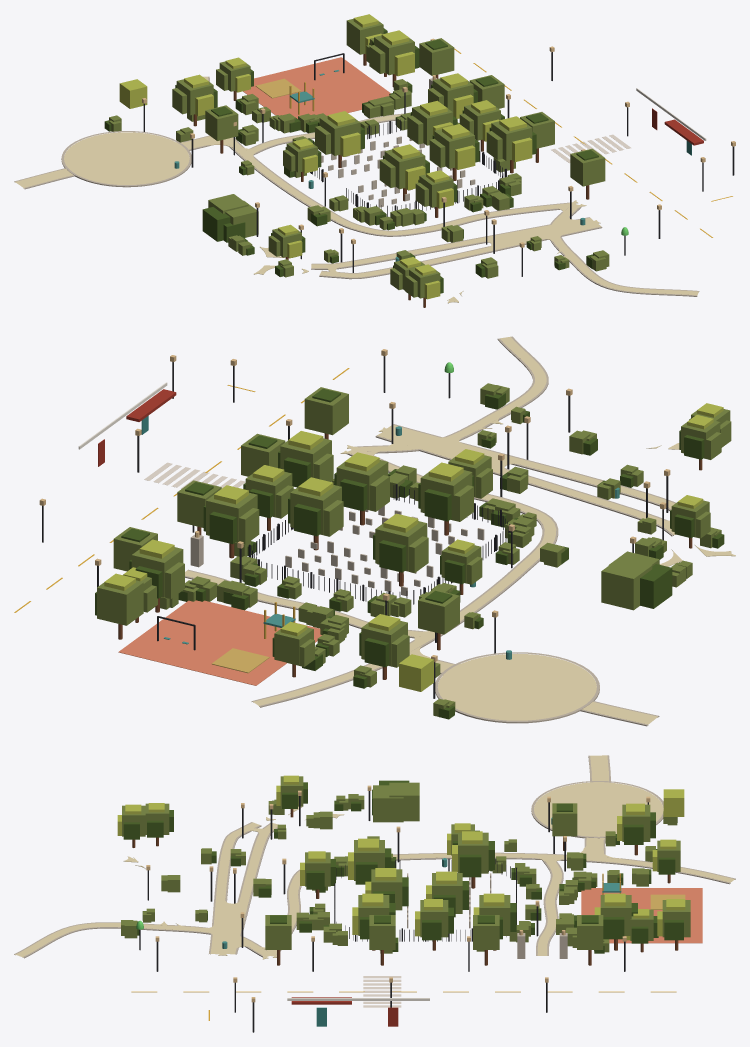
Rendered from chunk_0_-1.glb.
3 views of the same model, one above another, from view 1: azimuth 30°, elevation 25°; view 2: azimuth 150°, elevation 25°; view 3: azimuth 270°, elevation 25° (orthographic). The views are drawn at different scales.
Parts seen in each view (by area): view 1: chunk_0_-1__tree, chunk_0_-1__ground, chunk_0_-1__feat_playground, chunk_0_-1__feat_cemetery, chunk_0_-1__lamp, chunk_0_-1__building; view 2: chunk_0_-1__tree, chunk_0_-1__ground, chunk_0_-1__feat_playground, chunk_0_-1__feat_cemetery, chunk_0_-1__lamp, chunk_0_-1__building; view 3: chunk_0_-1__tree, chunk_0_-1__ground, chunk_0_-1__feat_playground, chunk_0_-1__lamp, chunk_0_-1__building, chunk_0_-1__feat_cemetery, chunk_0_-1__feat_gate.
Part boxes in pixels (x1,y1,x2,y2): chunk_0_-1__tree: (104,14,609,307); chunk_0_-1__ground: (14,48,732,303); chunk_0_-1__feat_playground: (243,53,390,118); chunk_0_-1__feat_cemetery: (310,119,506,216); chunk_0_-1__lamp: (142,38,735,276); chunk_0_-1__building: (636,88,706,155); chunk_0_-1__tree: (95,383,731,719); chunk_0_-1__ground: (14,336,735,726); chunk_0_-1__feat_playground: (118,600,321,685); chunk_0_-1__feat_cemetery: (248,484,510,604); chunk_0_-1__lamp: (39,349,670,698); chunk_0_-1__building: (78,382,176,466); chunk_0_-1__tree: (117,775,690,965); chunk_0_-1__ground: (14,755,735,1020); chunk_0_-1__feat_playground: (581,873,702,943); chunk_0_-1__lamp: (146,785,650,1032); chunk_0_-1__building: (287,997,429,1026); chunk_0_-1__feat_cemetery: (334,858,516,941); chunk_0_-1__feat_gate: (517,930,567,958).
Bounding box in the file's own units: 75.57 × 6.67 × 83.44.
